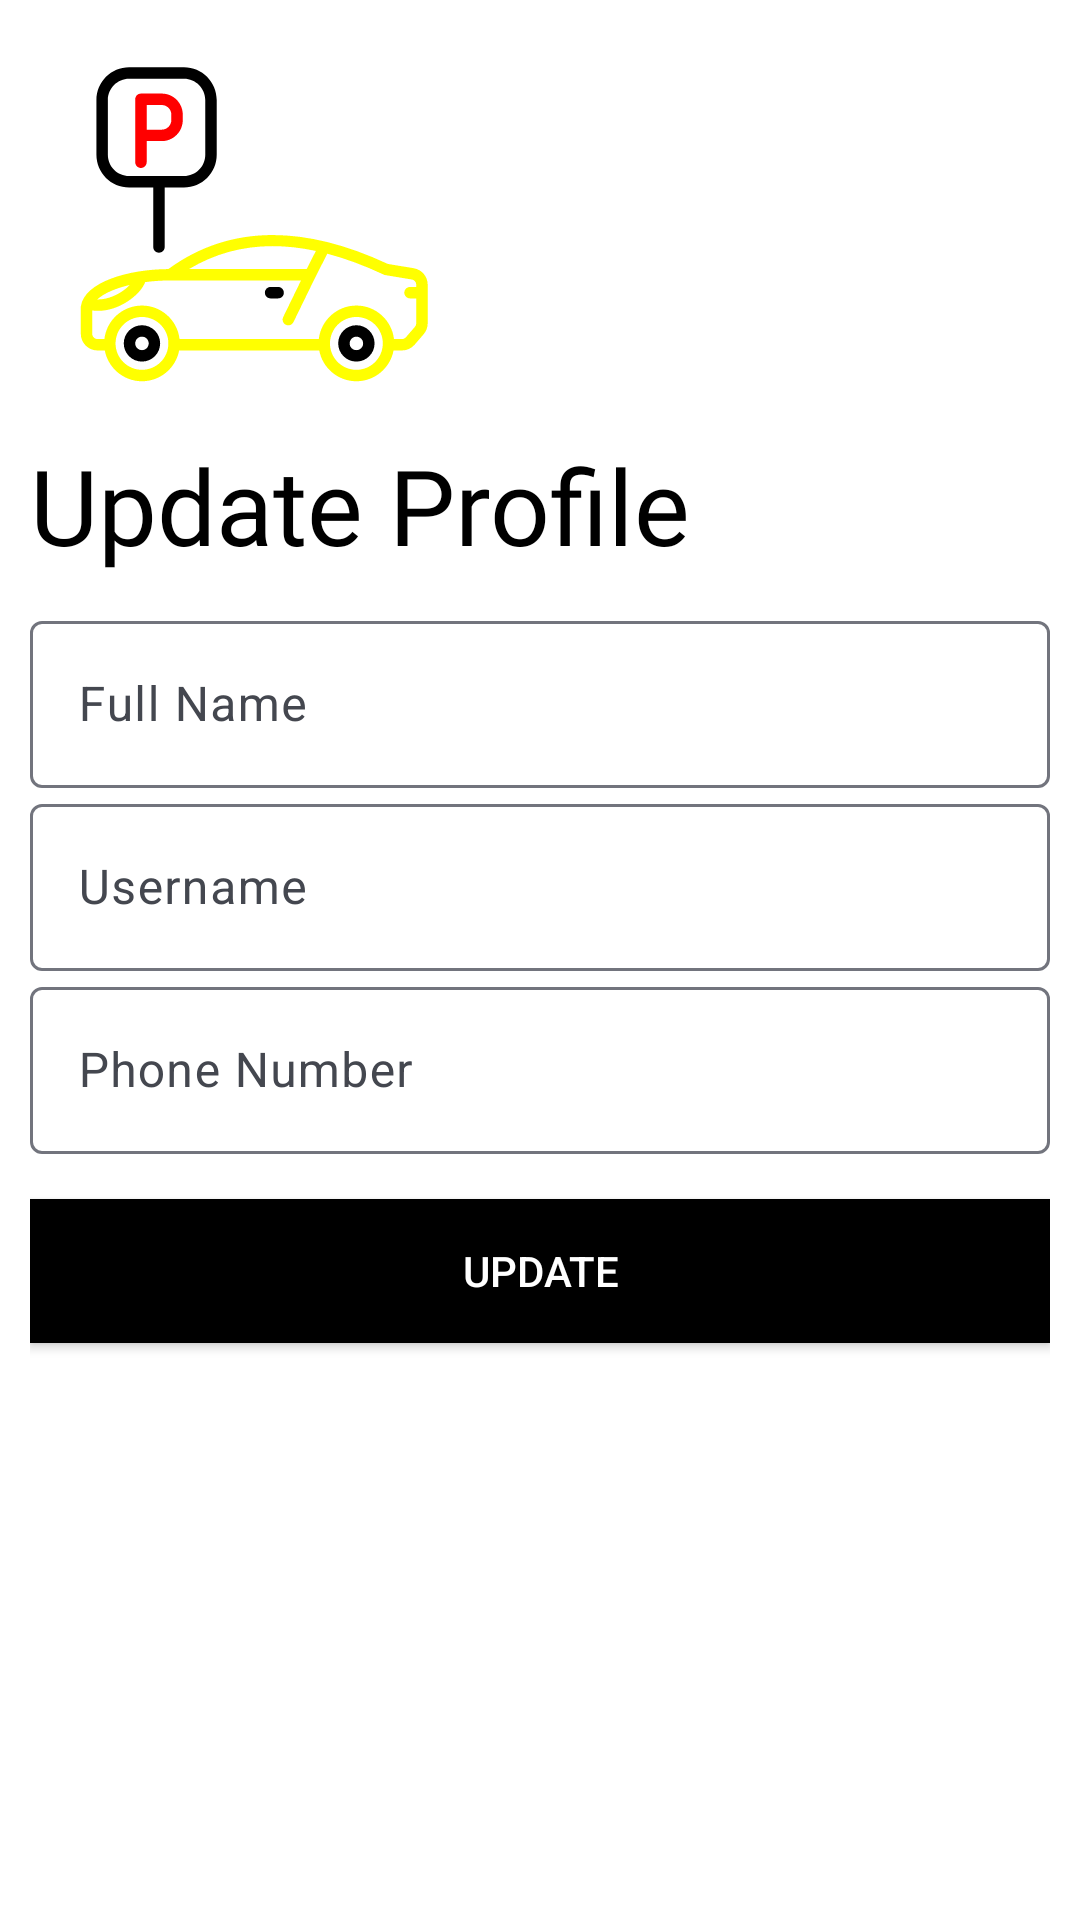

Icons on this 1080 x 1920 Android screen, each with its box as (x1,y1,x2,y2):
parking car: (80,67,428,382)
